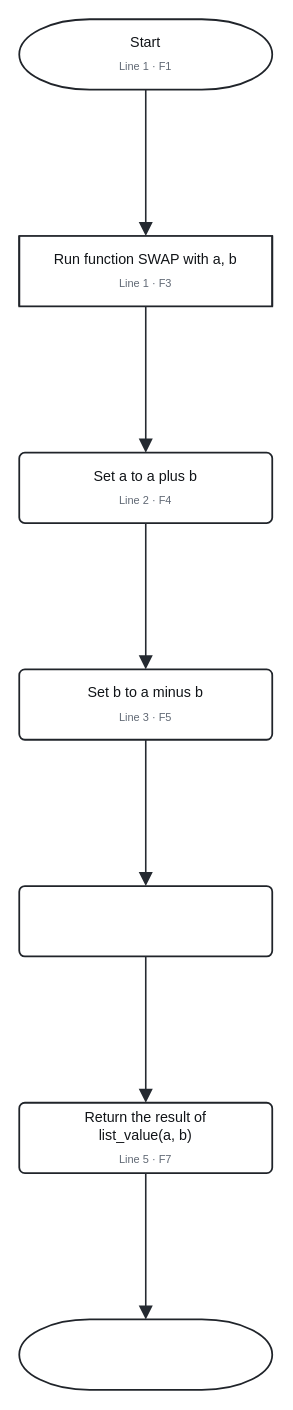
The diagram is 293 pixels wide and 1410 high, and some of its shapes have lost their labels. The box of each missing label's shape, as (x1, y1, x2, y2) in pixels:
End Line 1 · F2: (18, 1318, 273, 1390)
Set a to a minus b Line 4 · F6: (18, 885, 273, 957)
